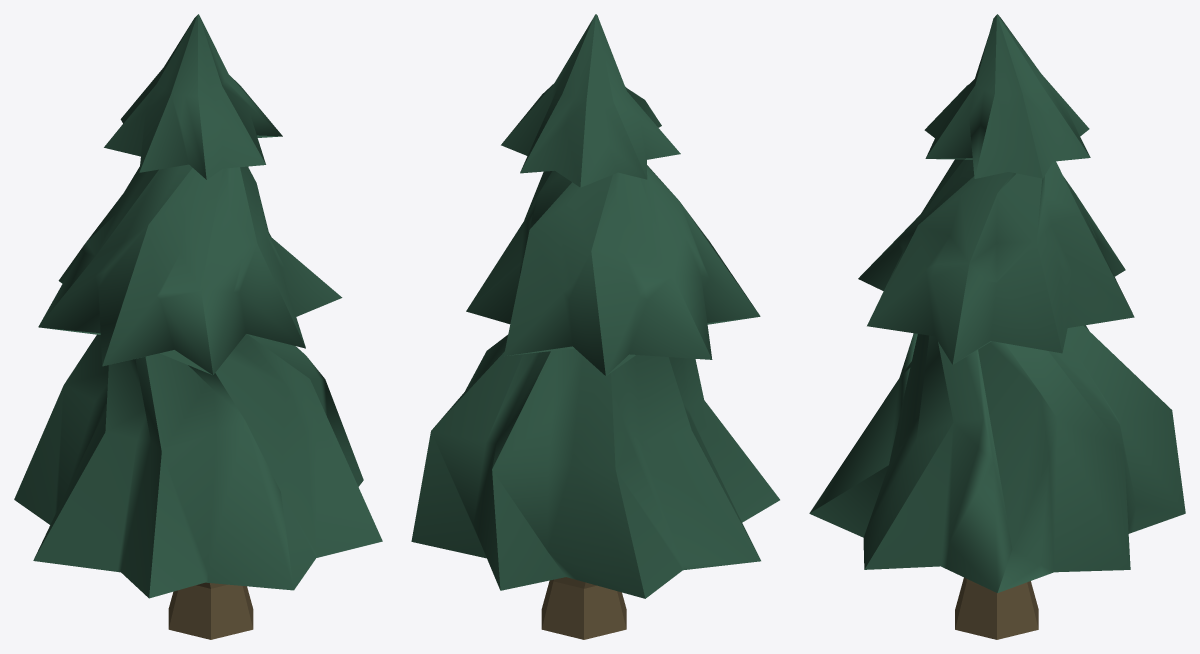
File: Tree2.fbx
The picture shows the model from 3 angles, left to right: view 1: azimuth 30°, elevation 25°; view 2: azimuth 150°, elevation 25°; view 3: azimuth 270°, elevation 25°; orthographic projection.
Visible parts, largest first — view 1: Tree2; view 2: Tree2; view 3: Tree2.
Part boxes in pixels (x1=…): Tree2: x1=14, y1=14, x2=382, y2=639; Tree2: x1=411, y1=14, x2=779, y2=639; Tree2: x1=809, y1=14, x2=1185, y2=639.
Bounding box in the file's own units: 3.32 × 5.83 × 3.32.
